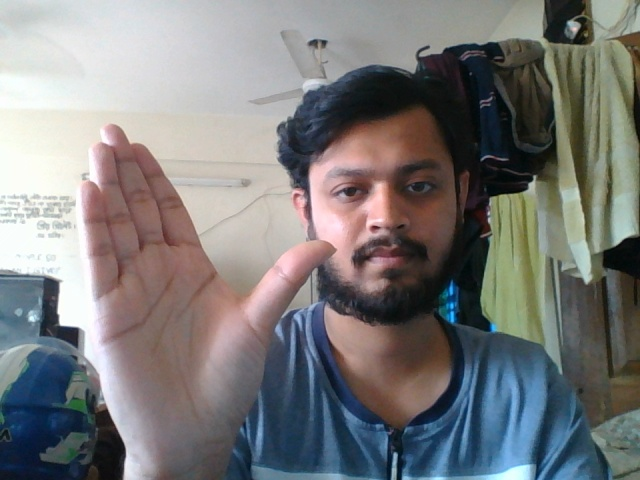a: (60, 115, 343, 480)
